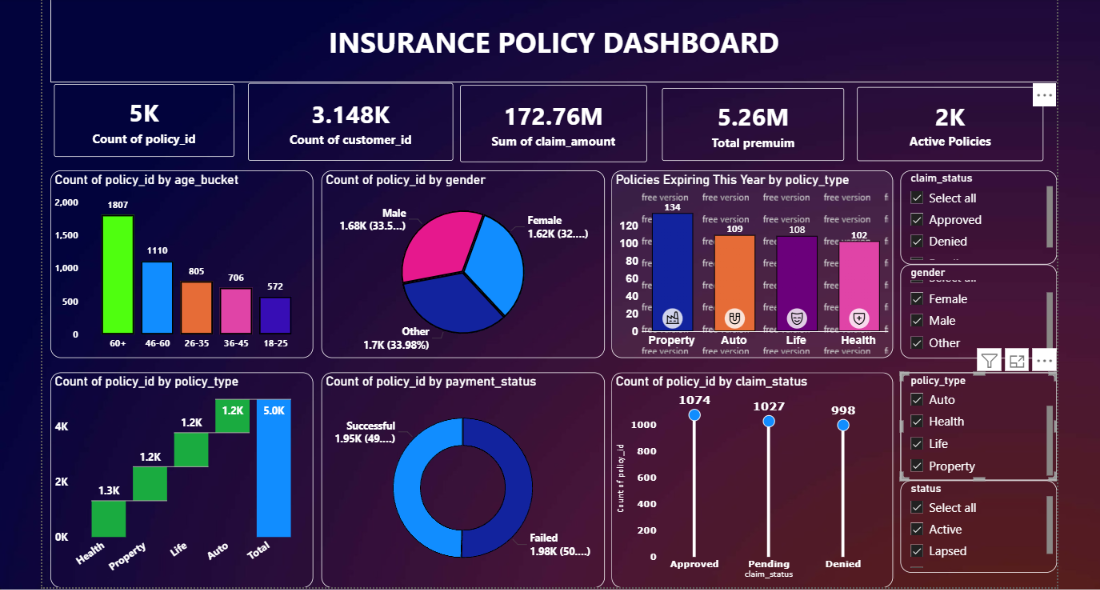

What the dashboard file says about the page in this screenshot:
{"tool":"powerbi","page":{"name":" Insurance Policy ","canvas":[1337,776],"ordinal":0},"visuals":[{"type":"cardVisual","fields":{"Data":["Count(policy_details.policy_id)"]},"box":[10,112.5,247.5,102.5],"z":0},{"type":"cardVisual","fields":{"Data":["Count(policy_details.customer_id)"]},"box":[266.2,111.2,280,108.8],"z":1000},{"type":"cardVisual","fields":{"Data":["Sum(claims.claim_amount)"]},"box":[546.2,113.8,256.2,107.5],"z":2000},{"type":"clusteredColumnChart","fields":{"Category":["customers.age_bucket"],"Y":["Count(policy_details.policy_id)"]},"box":[10,226.2,346.2,247],"z":3000},{"type":"pieChart","fields":{"Category":["customers.gender"],"Y":["Count(policy_details.policy_id)"]},"box":[367.5,226.2,373.8,247.5],"z":4000},{"type":"waterfallChart","fields":{"Category":["policy_details.policy_type"],"Y":["CountNonNull(policy_details.policy_id)"]},"box":[10,492.5,346.2,283.8],"z":5000},{"type":"lollipopcolumn216FD8C19B9DC0D953B3FAE4C3997742","fields":{"col_0":["claims.claim_status"],"col_1":["claims.policy_id"]},"box":[750,492.5,371.2,283.8],"z":6000},{"type":"shape","box":[10,0,1327.5,111.2],"z":7000},{"type":"donutChart","fields":{"Category":["payments.payment_status"],"Y":["Count(payments.policy_id)"]},"box":[367.5,492.5,373.8,283.8],"z":8000},{"type":"adwiseVisual73804AE4264848C8BCD67A31A0791811","fields":{"series":["policy_details.policy_type"],"values":["additional_fields.Policies Expiring This Year"]},"box":[750,226.2,371.2,247.5],"z":9000},{"type":"cardVisual","fields":{"Data":["policy_details.Total premuim"]},"box":[811.2,117.5,250,102.5],"z":10000},{"type":"slicer","fields":{"Values":["customers.gender"]},"box":[1131.2,350,206.2,123.8],"z":11000},{"type":"slicer","fields":{"Values":["policy_details.policy_type"]},"box":[1131.2,492.5,206.2,142.5],"z":12000},{"type":"slicer","fields":{"Values":["policy_details.status"]},"box":[1131.2,635,206.2,121.2],"z":13000},{"type":"cardVisual","fields":{"Data":["additional_fields.Active Policies"]},"box":[1068.8,116.2,255,103.8],"z":14000},{"type":"slicer","fields":{"Values":["claims.claim_status"]},"box":[1131.2,226.2,206.2,123.8],"z":15000}]}

Visuals, with their boxes in screenshot pixels (x1, y1, x2, y2):
cardVisual - Count(policy_details.policy_id): <box>53,84,239,161</box>
cardVisual - Count(policy_details.customer_id): <box>245,83,455,165</box>
cardVisual - Sum(claims.claim_amount): <box>455,85,648,166</box>
clusteredColumnChart - customers.age_bucket x Count(policy_details.policy_id): <box>53,170,313,355</box>
pieChart - customers.gender x Count(policy_details.policy_id): <box>321,170,602,355</box>
waterfallChart - policy_details.policy_type x CountNonNull(policy_details.policy_id): <box>53,369,313,582</box>
lollipopcolumn216FD8C19B9DC0D953B3FAE4C3997742 - claims.claim_status x claims.policy_id: <box>608,369,887,582</box>
shape: <box>53,0,1049,83</box>
donutChart - payments.payment_status x Count(payments.policy_id): <box>321,369,602,582</box>
adwiseVisual73804AE4264848C8BCD67A31A0791811 - policy_details.policy_type x additional_fields.Policies Expiring This Year: <box>608,170,887,355</box>
cardVisual - policy_details.Total premuim: <box>654,88,842,165</box>
slicer - customers.gender: <box>894,262,1049,355</box>
slicer - policy_details.policy_type: <box>894,369,1049,476</box>
slicer - policy_details.status: <box>894,476,1049,567</box>
cardVisual - additional_fields.Active Policies: <box>847,87,1039,165</box>
slicer - claims.claim_status: <box>894,170,1049,262</box>
